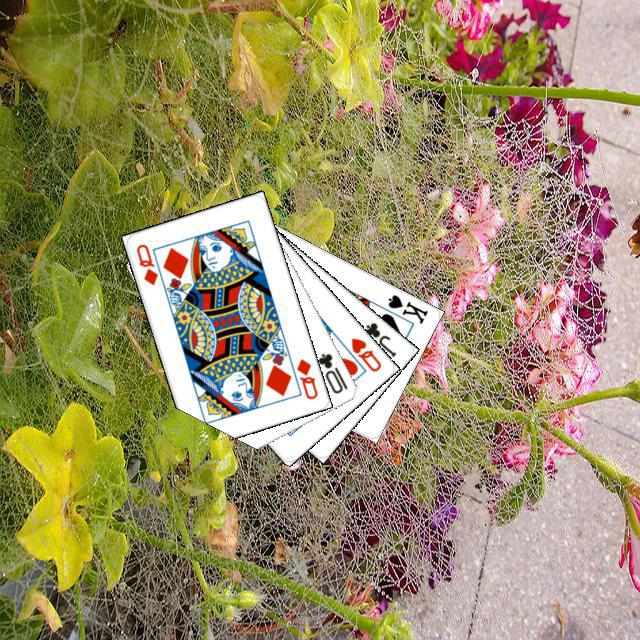10c: (313, 348, 349, 395)
Jc: (360, 317, 398, 359)
Ks: (383, 290, 430, 326)
Qd: (131, 239, 160, 287), (292, 354, 319, 401)
Qh: (346, 333, 383, 373)
